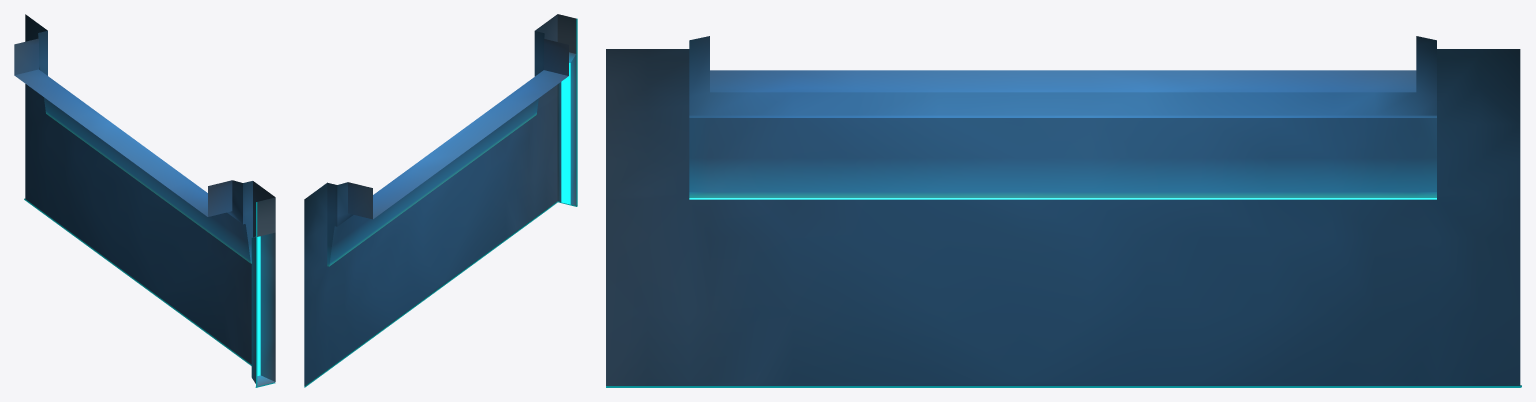
The model's file is Sidewall.fbx.
3 renders of one model, left to right at view 1: azimuth 30°, elevation 25°; view 2: azimuth 150°, elevation 25°; view 3: azimuth 270°, elevation 25°, orthographic. The views are drawn at different scales.
Parts seen in each view (by area): view 1: Room.233; view 2: Room.233; view 3: Room.233.
Part boxes in pixels (x1,y1,x2,y2): Room.233: (14, 14, 275, 387); Room.233: (304, 14, 577, 387); Room.233: (606, 36, 1521, 387).
Bounding box in the file's own units: 200 × 900 × 2204.
